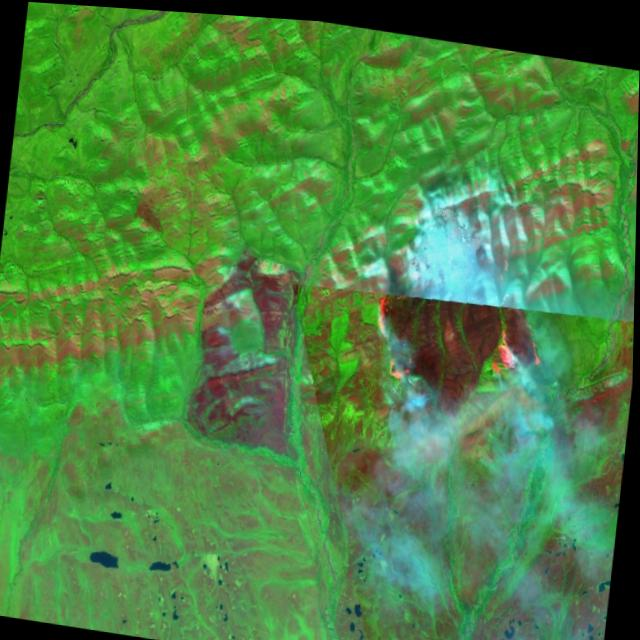fire: (363, 283, 417, 379), (482, 306, 527, 378)
